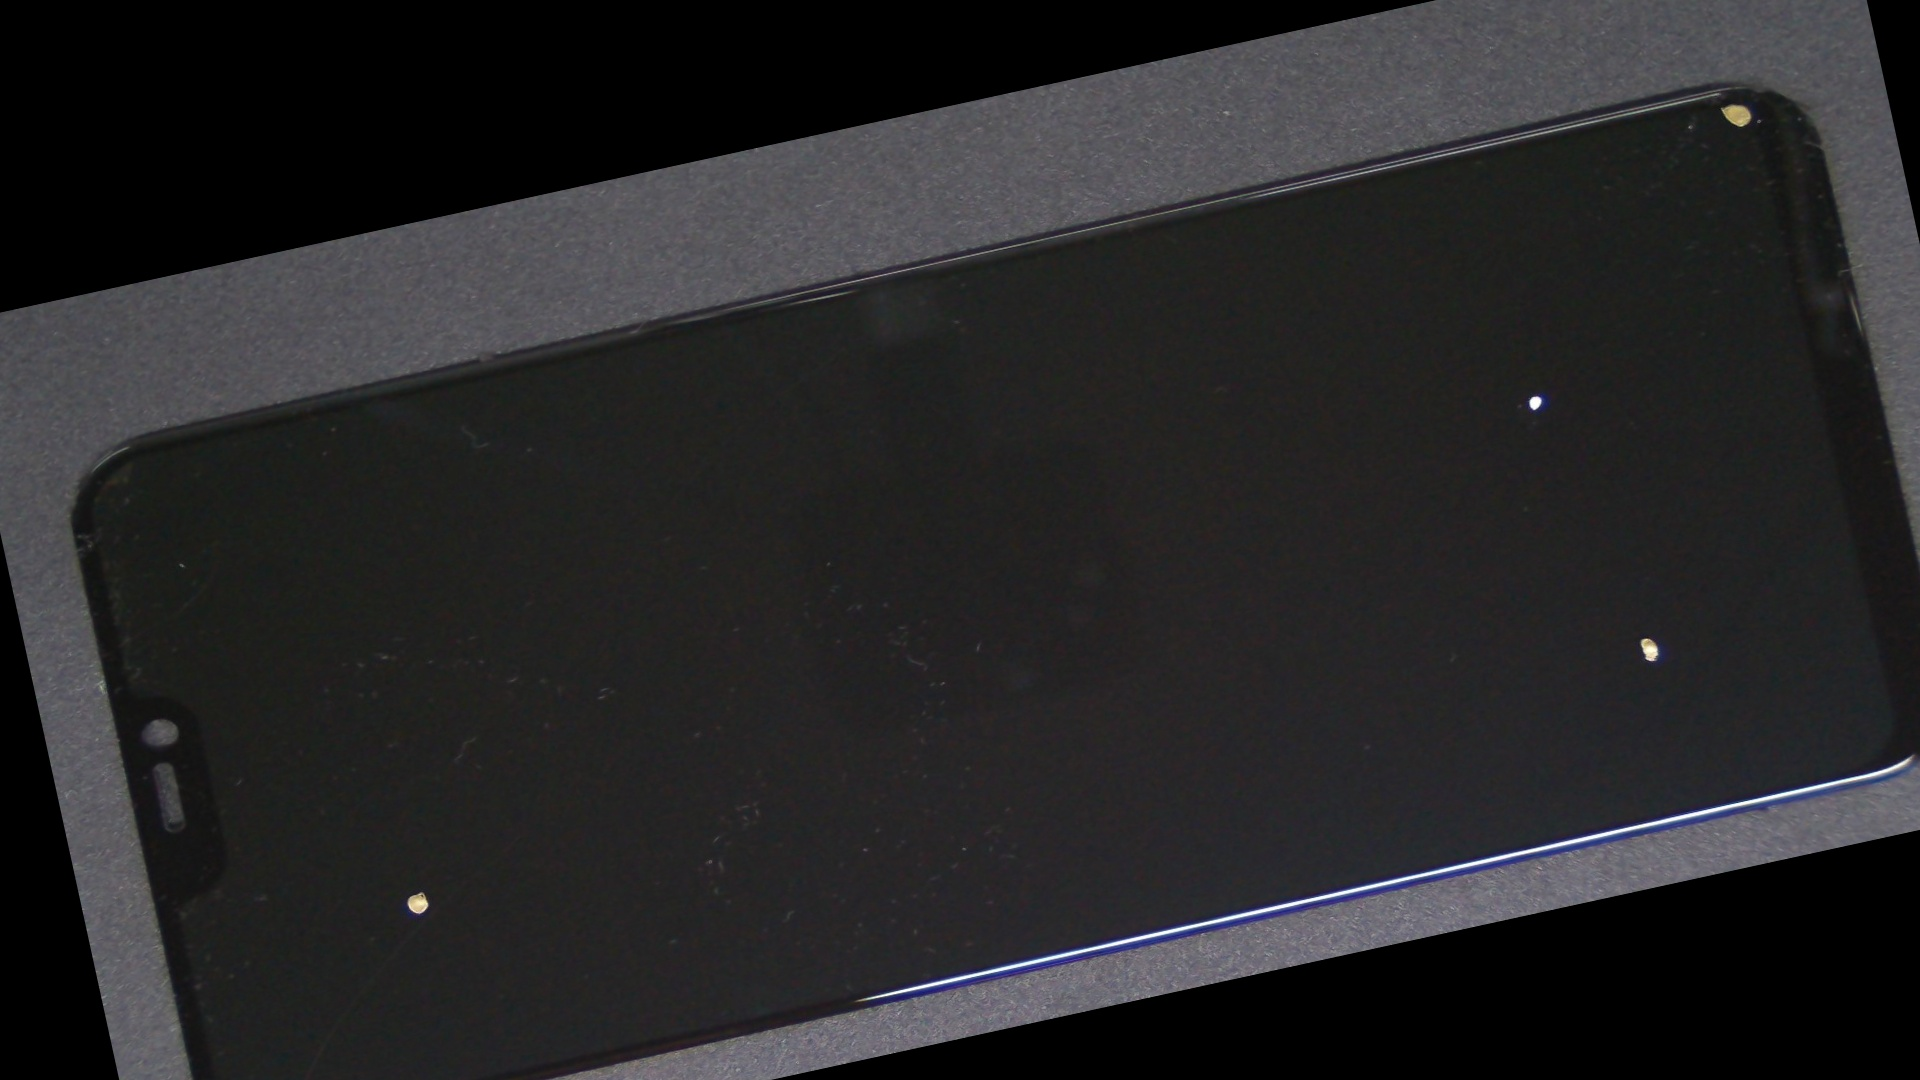oil: (798, 236, 1920, 1047), (742, 109, 1920, 757), (840, 0, 1899, 373), (189, 534, 641, 1080)
